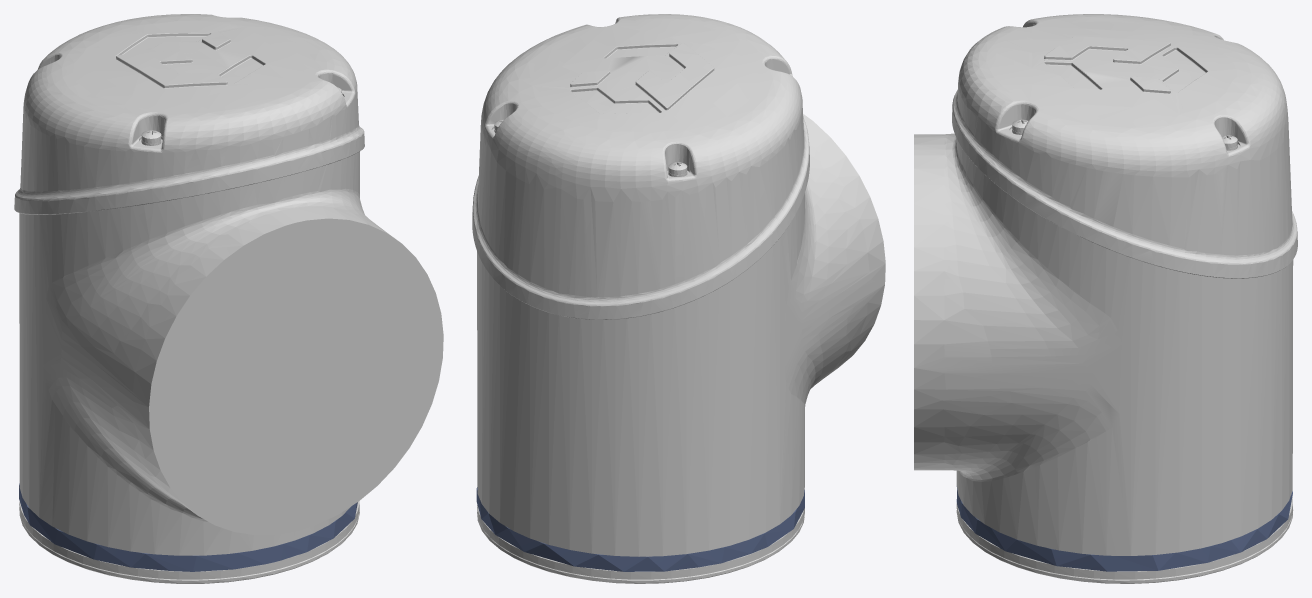
Rendered from shoulder.dae.
3 renders of one model, left to right at view 1: azimuth 30°, elevation 25°; view 2: azimuth 150°, elevation 25°; view 3: azimuth 270°, elevation 25°, orthographic. The views are drawn at different scales.
Visible parts, largest first — view 1: cs63_link1_part1, cs63_link1_part2; view 2: cs63_link1_part1, cs63_link1_part2; view 3: cs63_link1_part1, cs63_link1_part2.
Part boxes in pixels (x1,y1,x2,y2): cs63_link1_part1: [14, 14, 443, 583]; cs63_link1_part2: [19, 483, 357, 571]; cs63_link1_part1: [472, 14, 885, 583]; cs63_link1_part2: [476, 487, 804, 571]; cs63_link1_part1: [914, 14, 1297, 583]; cs63_link1_part2: [956, 486, 1292, 571].
Bounding box in the file's own units: 0.1 × 0.1107 × 0.145.
